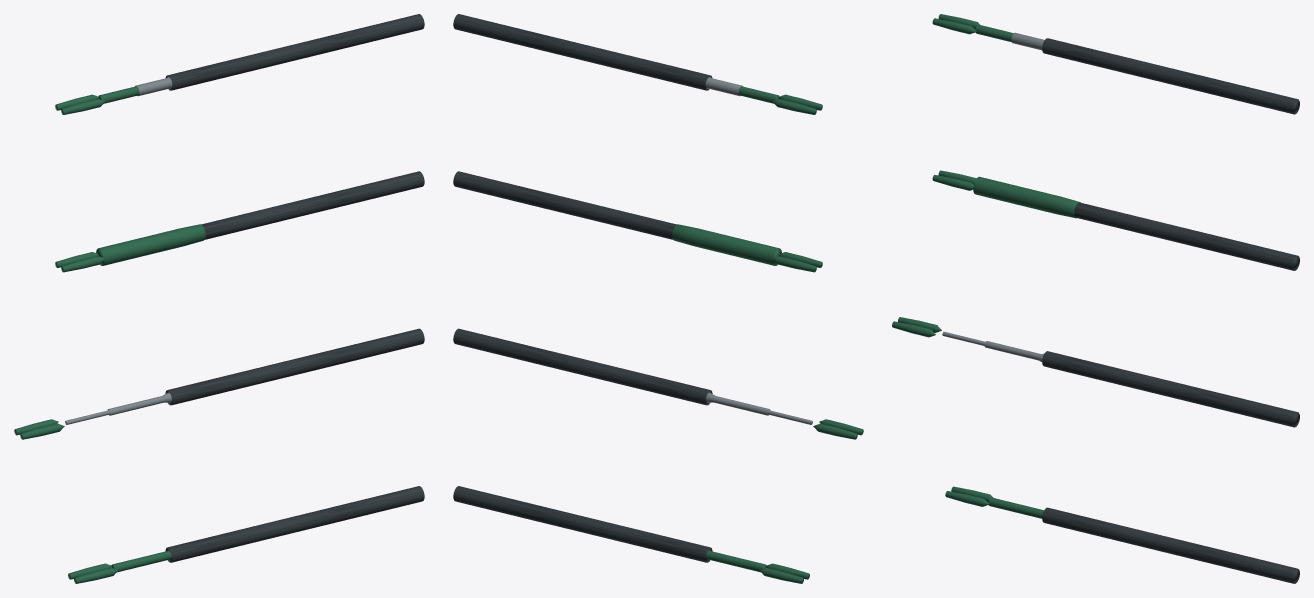
Rendered from nock_systems.glb.
The picture shows the model from 3 angles, left to right: view 1: azimuth 30°, elevation 25°; view 2: azimuth 150°, elevation 25°; view 3: azimuth 330°, elevation 25°; orthographic projection.
Parts seen in each view (by area): view 1: overnock, bushing_insert, pin_nock, direct_fit; view 2: overnock, bushing_insert, pin_nock, direct_fit; view 3: overnock, bushing_insert, pin_nock, direct_fit.
Part boxes in pixels (bbox=[...]): overnock: bbox=[55, 171, 424, 272]; bushing_insert: bbox=[55, 14, 424, 114]; pin_nock: bbox=[14, 328, 424, 439]; direct_fit: bbox=[68, 486, 424, 583]; overnock: bbox=[453, 171, 822, 272]; bushing_insert: bbox=[453, 14, 822, 114]; pin_nock: bbox=[453, 328, 863, 439]; direct_fit: bbox=[453, 486, 809, 583]; overnock: bbox=[932, 170, 1299, 270]; bushing_insert: bbox=[932, 14, 1299, 114]; pin_nock: bbox=[892, 317, 1299, 427]; direct_fit: bbox=[945, 486, 1299, 583].
Bounding box in the file's own units: 0.187 × 0.2164 × 0.0082.
3 materials, 1 textured.
